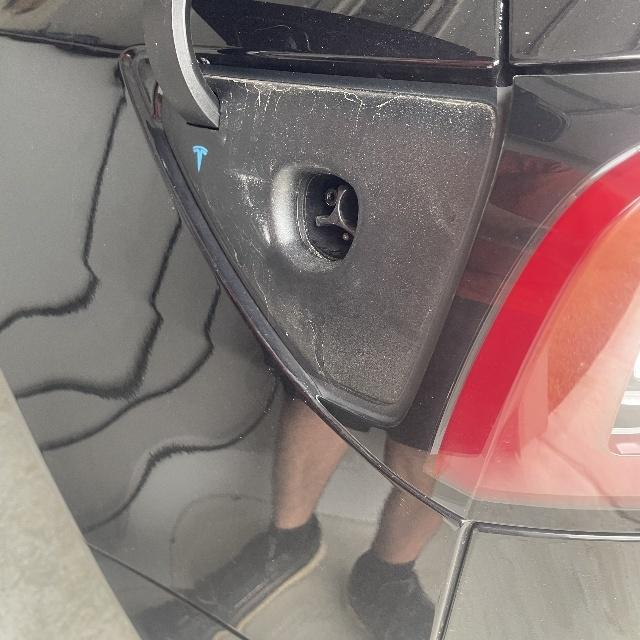Tesla Model-S-: (254, 153, 376, 290)
